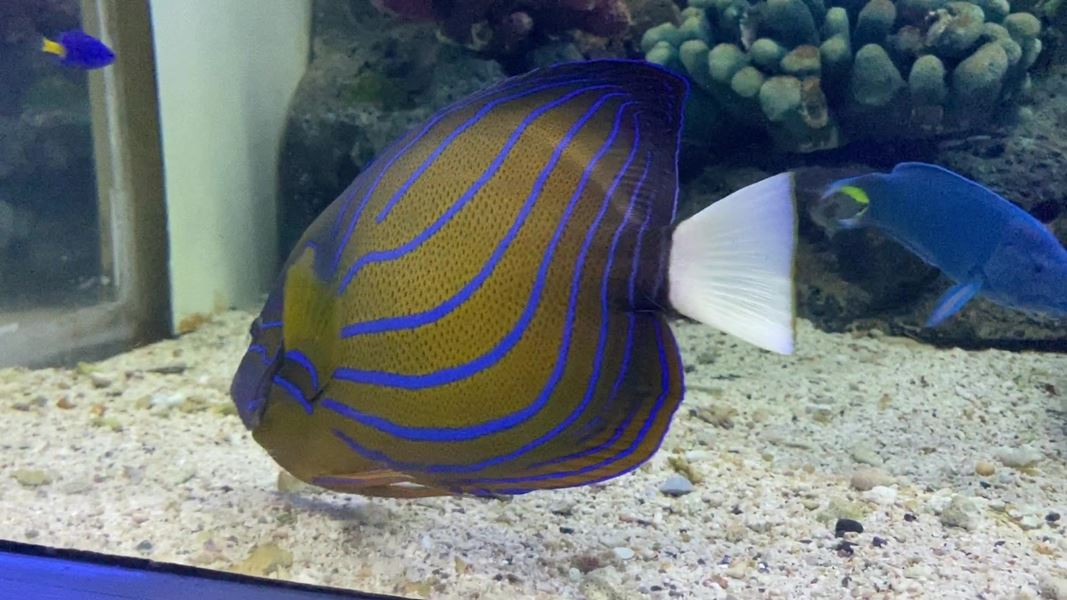Blue ring angelfish: (187, 52, 832, 528)
